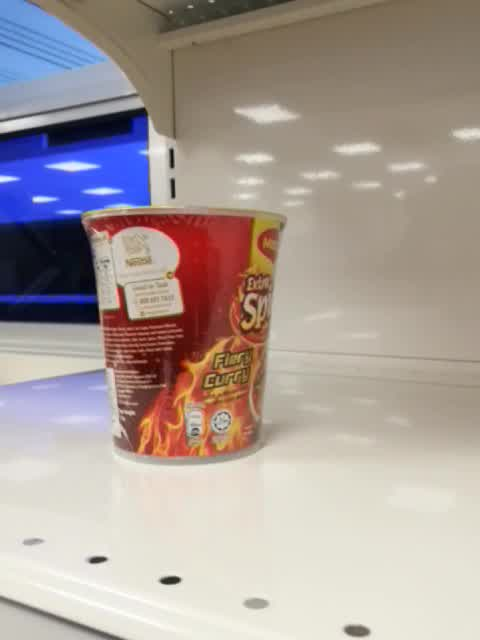maggi: (82, 206, 286, 465)
